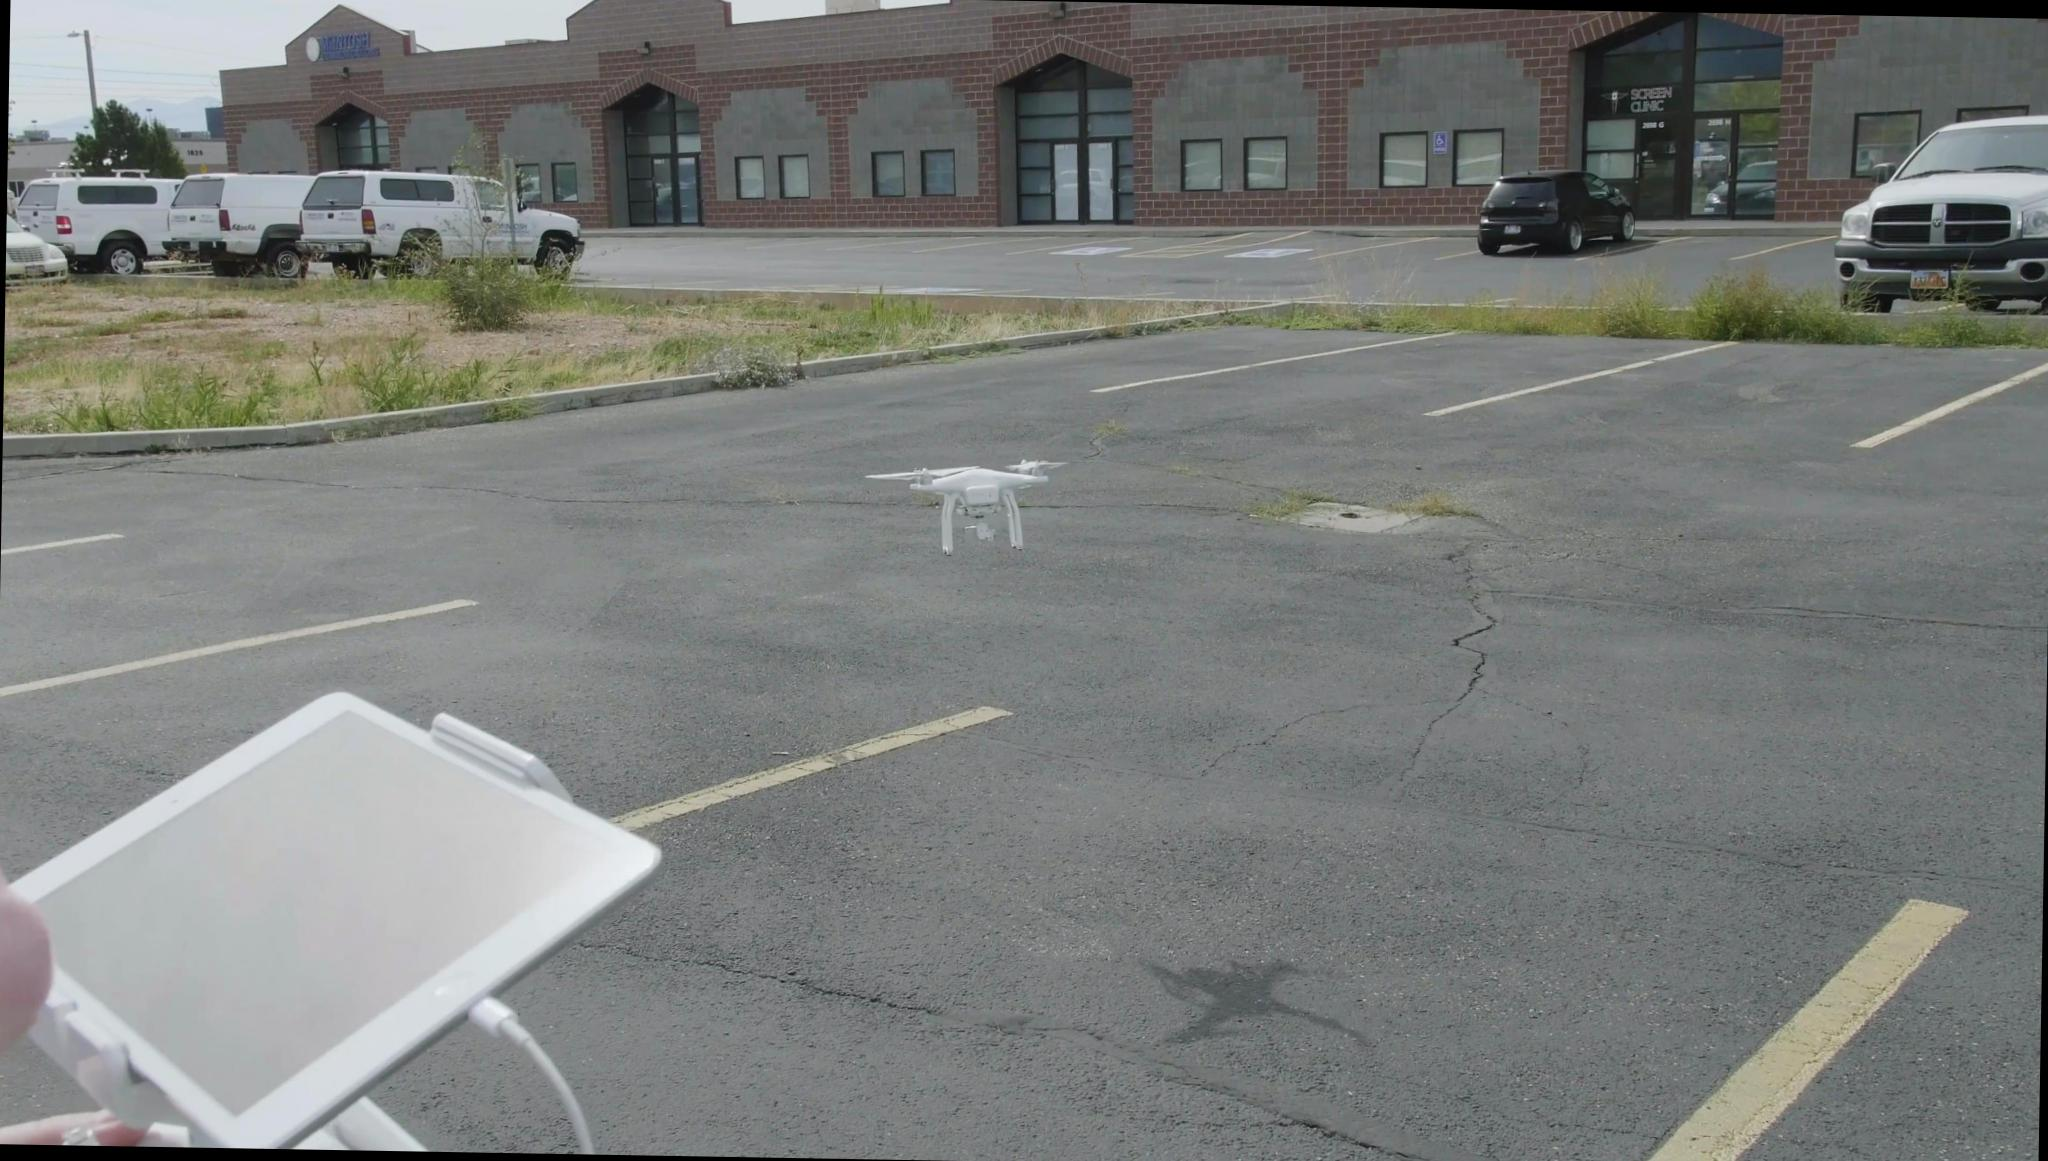drone: (858, 449, 1073, 549)
